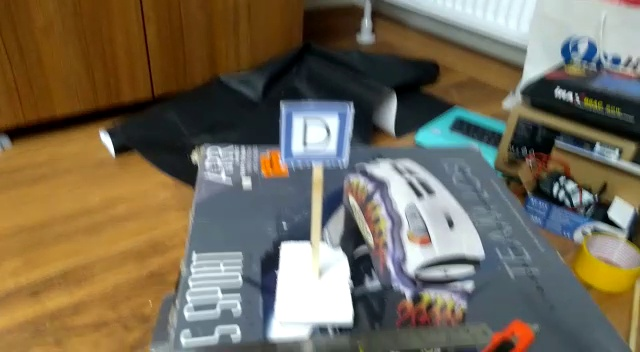durak: (282, 102, 346, 161)
